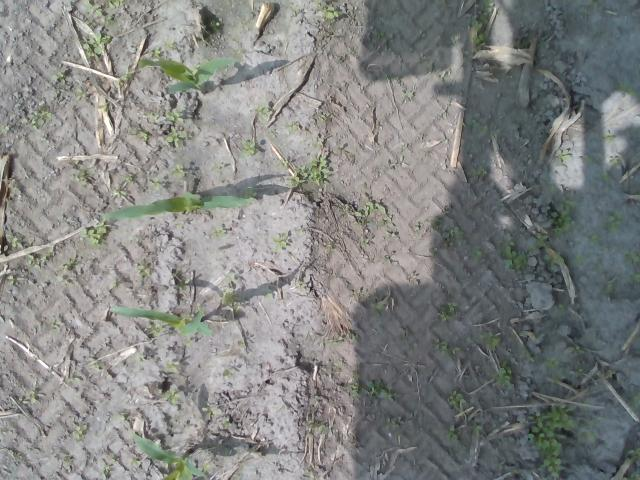Maize: (102, 190, 248, 222), (136, 56, 238, 96), (130, 431, 206, 480), (108, 304, 214, 337)
Weeds: (526, 397, 596, 480), (499, 232, 566, 272), (282, 153, 330, 188), (466, 0, 494, 52), (350, 199, 396, 229), (549, 193, 576, 234), (162, 108, 188, 148), (83, 0, 124, 25), (82, 32, 112, 58), (80, 222, 110, 247), (221, 273, 240, 312), (622, 248, 640, 286), (322, 331, 362, 348), (431, 338, 464, 358), (490, 359, 512, 388), (366, 380, 395, 401), (30, 106, 56, 129), (545, 356, 566, 384), (440, 226, 466, 246), (604, 207, 624, 232), (437, 301, 460, 322), (314, 0, 339, 19), (447, 388, 467, 411), (98, 456, 118, 478), (629, 441, 640, 480), (478, 334, 503, 350), (615, 82, 640, 98), (270, 232, 288, 252), (26, 253, 50, 268), (72, 422, 90, 442), (552, 148, 573, 165), (382, 414, 400, 433), (61, 256, 80, 274), (5, 234, 25, 250), (446, 423, 461, 443), (472, 121, 490, 137), (130, 124, 148, 140), (241, 142, 256, 160), (202, 404, 220, 419), (120, 63, 134, 82), (134, 263, 150, 279), (146, 322, 162, 338), (566, 342, 585, 355), (470, 166, 490, 178), (254, 104, 270, 119), (170, 164, 186, 178), (349, 382, 361, 400), (165, 389, 177, 406), (471, 422, 482, 440), (468, 246, 482, 260), (72, 170, 86, 184), (207, 19, 220, 34), (574, 363, 586, 379), (150, 176, 162, 192), (286, 122, 302, 134), (165, 360, 179, 373), (600, 133, 616, 144), (111, 414, 128, 424), (202, 460, 216, 472), (50, 319, 64, 331), (26, 390, 38, 404), (89, 358, 104, 369), (112, 188, 128, 198), (50, 71, 64, 82), (632, 391, 640, 410), (604, 282, 616, 294), (165, 38, 177, 50), (213, 226, 225, 238), (148, 46, 161, 57), (372, 303, 386, 313), (318, 112, 332, 122), (600, 172, 612, 183), (0, 124, 11, 136), (373, 30, 384, 41), (129, 456, 140, 467), (534, 330, 546, 340), (76, 88, 86, 100), (494, 462, 506, 472), (68, 376, 82, 384), (558, 303, 568, 314), (222, 416, 231, 428), (605, 368, 614, 380), (590, 232, 598, 245), (8, 274, 16, 285), (414, 223, 422, 233), (110, 279, 118, 289), (124, 176, 134, 182)
